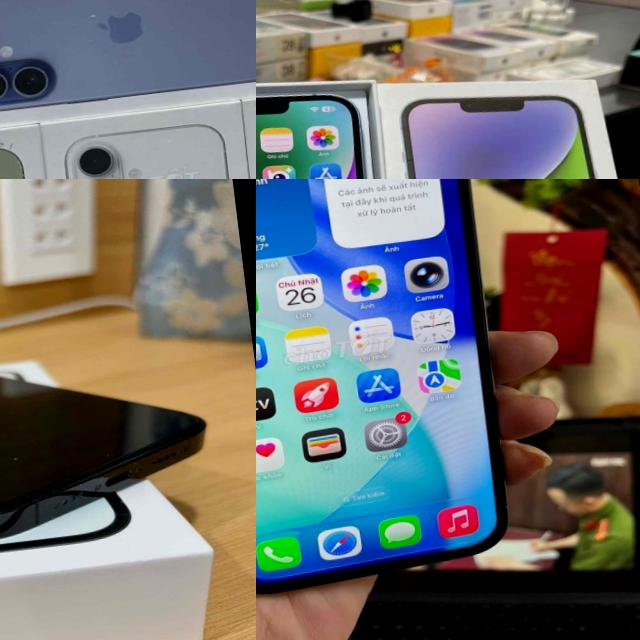scratch: (82, 469, 116, 504), (0, 492, 19, 524), (6, 454, 29, 464)
